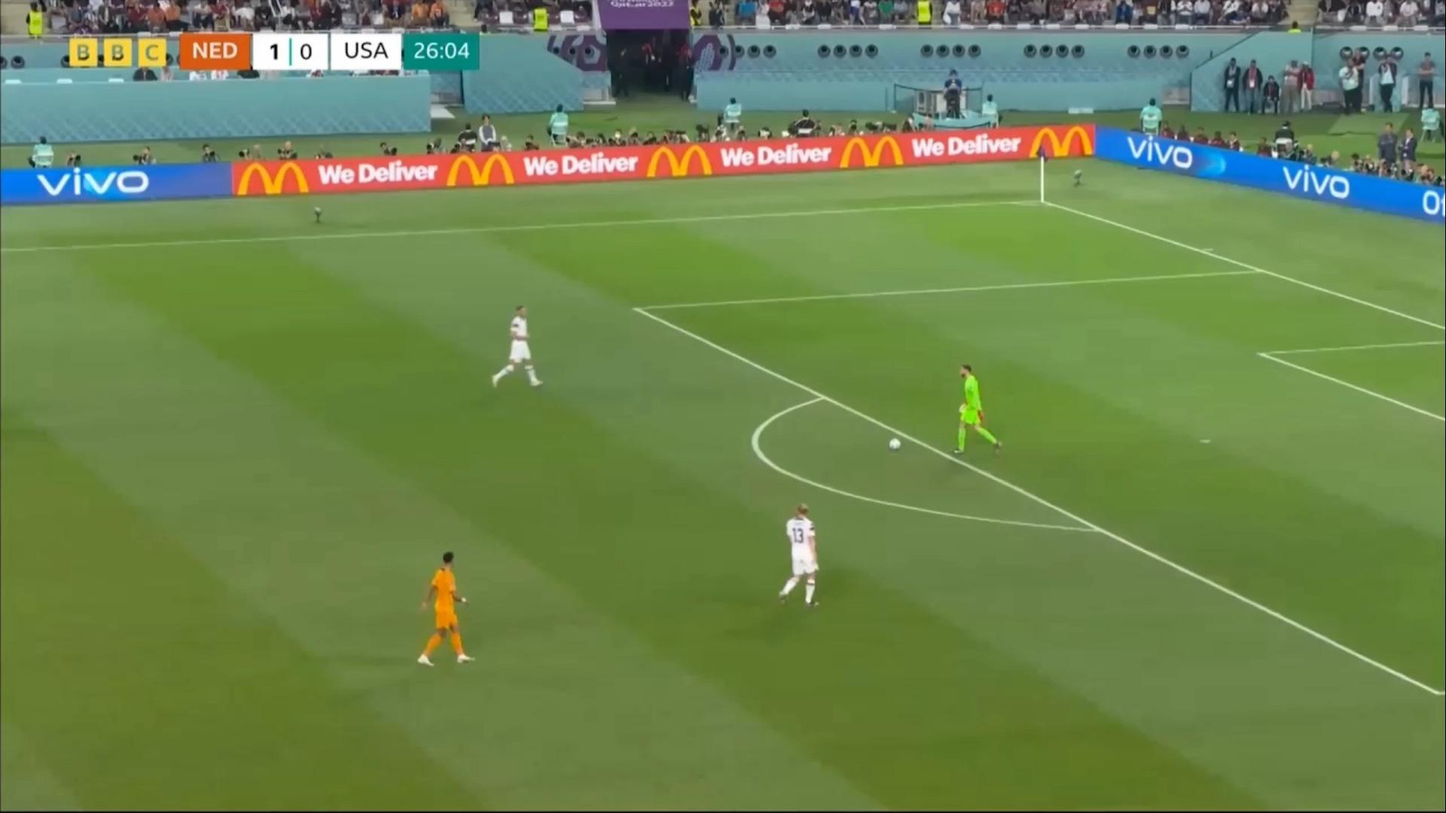Ball: (889, 437, 903, 453)
Player: (414, 550, 475, 669), (772, 500, 832, 612), (487, 304, 543, 397), (953, 364, 1003, 457)
